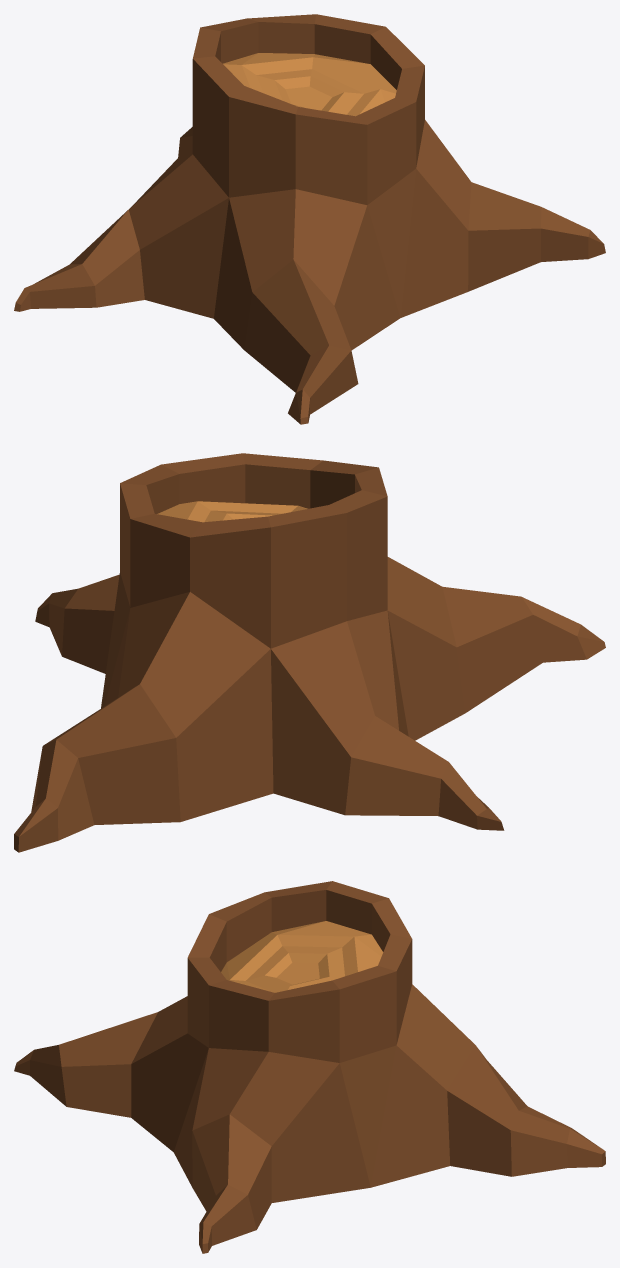
File: stump1.fbx
3 views of the same model, one above another, from view 1: azimuth 30°, elevation 25°; view 2: azimuth 150°, elevation 25°; view 3: azimuth 270°, elevation 25° (orthographic). The views are drawn at different scales.
Visible parts, largest first — view 1: Stump; view 2: Stump; view 3: Stump.
Boxes of the visible parts, x1,y1,x2,y2 form: Stump: (14,14,605,424); Stump: (14,453,605,852); Stump: (14,881,605,1253).
Size of the model in its own units: 197 by 85.78 by 213.
